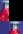pickaxe: (9, 0, 23, 21)
potion: (0, 0, 9, 21), (9, 21, 23, 34)
